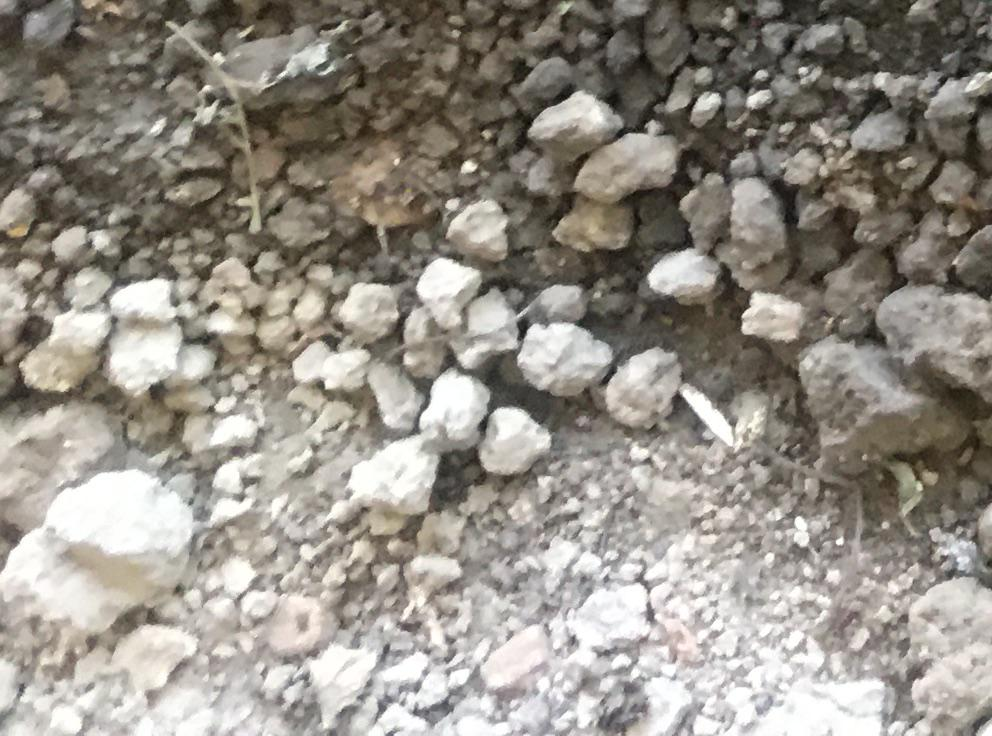block: (3, 466, 197, 665), (792, 336, 972, 470), (907, 575, 992, 727), (887, 276, 992, 397), (344, 435, 440, 516), (574, 130, 679, 203), (521, 319, 611, 400), (524, 89, 622, 163)
